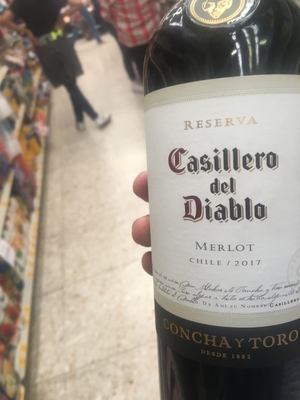casillero del diablo merlot: (138, 2, 300, 393)
